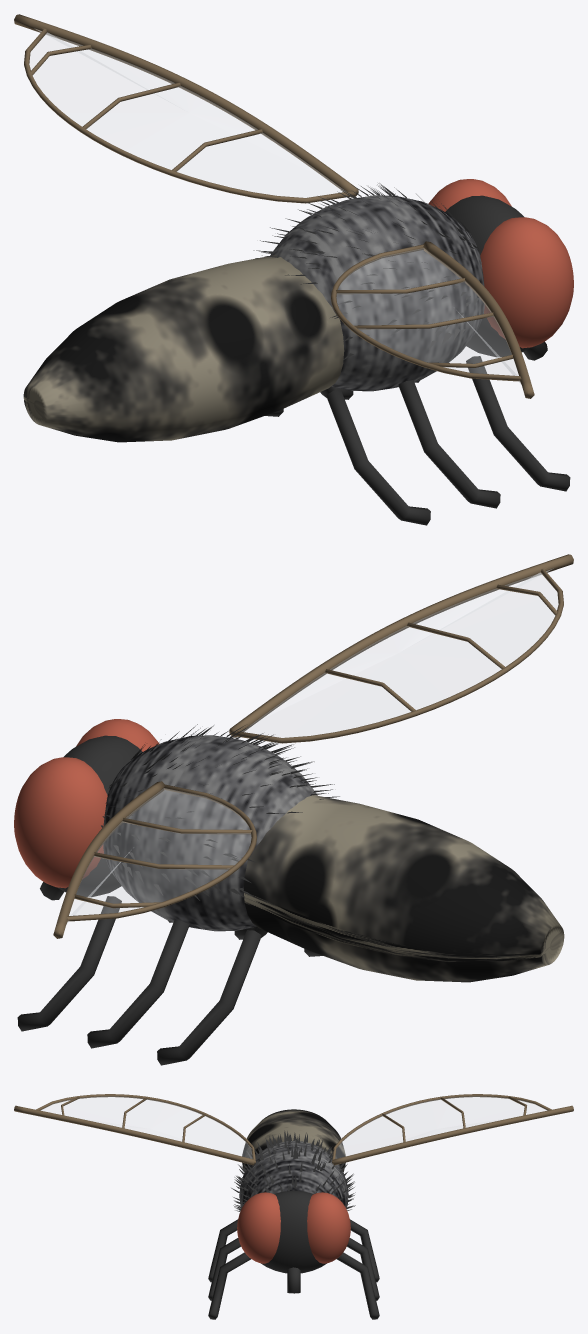
File: housefly.glb
3 renders of one model, top to bottom at view 1: azimuth 30°, elevation 25°; view 2: azimuth 150°, elevation 25°; view 3: azimuth 270°, elevation 25°, orthographic. The views are drawn at different scales.
Visible parts, largest first — view 1: Abdomen, Thorax, wing membrane.001, wing membrane, Compound eye, wing leading vein.001, Head, Leg.002, Leg.001, Leg, wing rim.001, Thorax bristles (+4 smaller); view 2: Abdomen, Thorax, wing membrane, wing membrane.001, Compound eye.001, wing leading vein, Head, Leg.005, Leg.004, Leg.003, wing rim, Thorax bristles (+5 smaller); view 3: wing membrane, wing membrane.001, Thorax, Abdomen, Head, Compound eye, Compound eye.001, Thorax bristles, wing leading vein, wing leading vein.001, wing rim, wing rim.001 (+7 smaller).
Boxes of the visible parts, left/top/right/bottom form: Abdomen: left=23, top=255, right=344, bottom=442; Thorax: left=270, top=195, right=484, bottom=391; wing membrane.001: left=29, top=29, right=345, bottom=197; wing membrane: left=336, top=248, right=521, bottom=384; Compound eye: left=480, top=217, right=573, bottom=348; wing leading vein.001: left=14, top=14, right=358, bottom=197; Head: left=445, top=195, right=530, bottom=357; Leg.002: left=326, top=390, right=430, bottom=525; Leg.001: left=398, top=380, right=500, bottom=508; Leg: left=466, top=356, right=570, bottom=491; wing rim.001: left=24, top=27, right=355, bottom=203; Thorax bristles: left=253, top=183, right=484, bottom=359; Abdomen: left=243, top=795, right=564, bottom=982; Thorax: left=103, top=735, right=317, bottom=931; wing membrane: left=242, top=569, right=558, bottom=737; wing membrane.001: left=66, top=788, right=251, bottom=924; Compound eye.001: left=14, top=757, right=107, bottom=888; wing leading vein: left=229, top=554, right=573, bottom=737; Head: left=57, top=735, right=142, bottom=897; Leg.005: left=157, top=930, right=261, bottom=1065; Leg.004: left=87, top=920, right=189, bottom=1048; Leg.003: left=17, top=896, right=121, bottom=1031; wing rim: left=232, top=567, right=563, bottom=743; Thorax bristles: left=101, top=724, right=339, bottom=900; wing membrane: left=40, top=1096, right=252, bottom=1158; wing membrane.001: left=335, top=1096, right=547, bottom=1158; Thorax: left=239, top=1140, right=348, bottom=1209; Abdomen: left=242, top=1109, right=345, bottom=1171; Head: left=261, top=1190, right=326, bottom=1273; Compound eye: left=237, top=1192, right=280, bottom=1263; Compound eye.001: left=307, top=1192, right=350, bottom=1263; Thorax bristles: left=231, top=1130, right=355, bottom=1211; wing leading vein: left=14, top=1105, right=255, bottom=1165; wing leading vein.001: left=332, top=1105, right=573, bottom=1165; wing rim: left=36, top=1094, right=255, bottom=1163; wing rim.001: left=332, top=1094, right=551, bottom=1163.
Size of the model in its own units: 1.47 by 0.7871 by 2.56.
6 materials, 2 textured.
